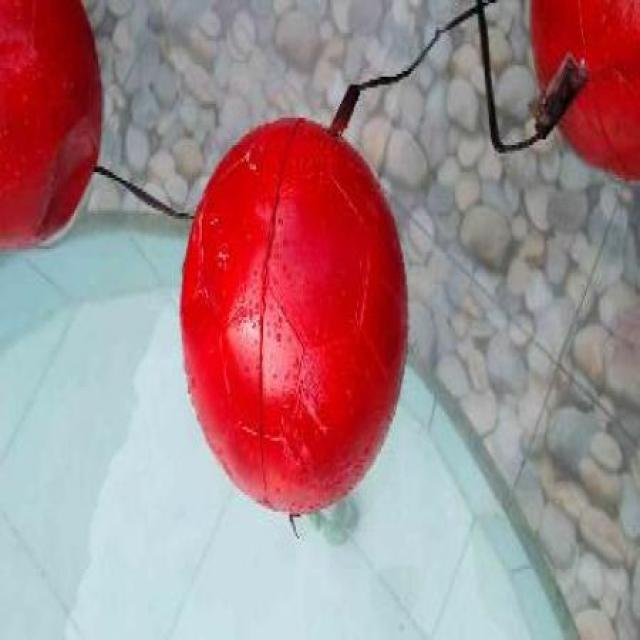buoy: (179, 115, 408, 514), (0, 2, 101, 250), (528, 2, 638, 180)
